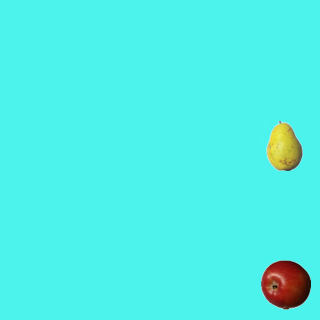Apple Braeburn: (260, 259, 310, 309)
Pear Monster: (259, 120, 309, 170)
